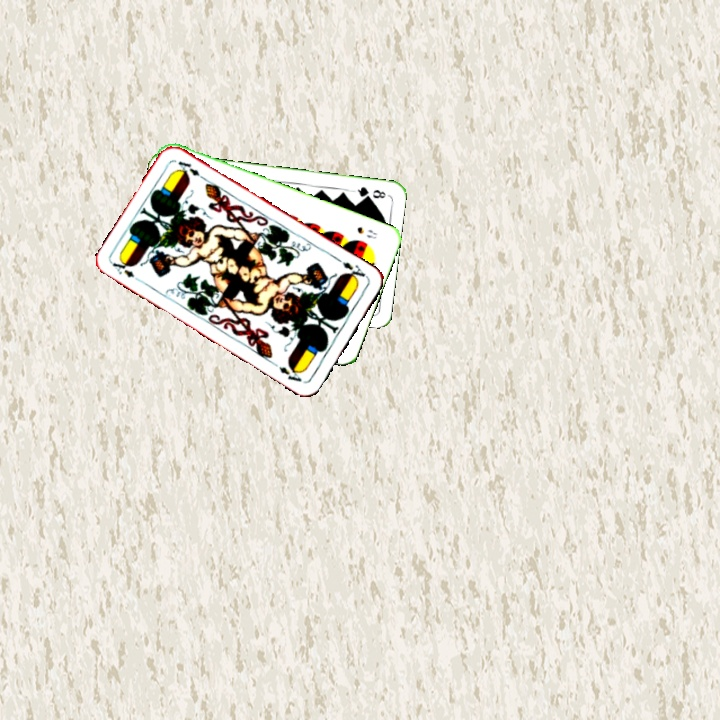EA: (108, 256, 145, 285), (338, 258, 370, 283)
G8: (350, 182, 388, 201)
S8: (353, 222, 380, 242)
